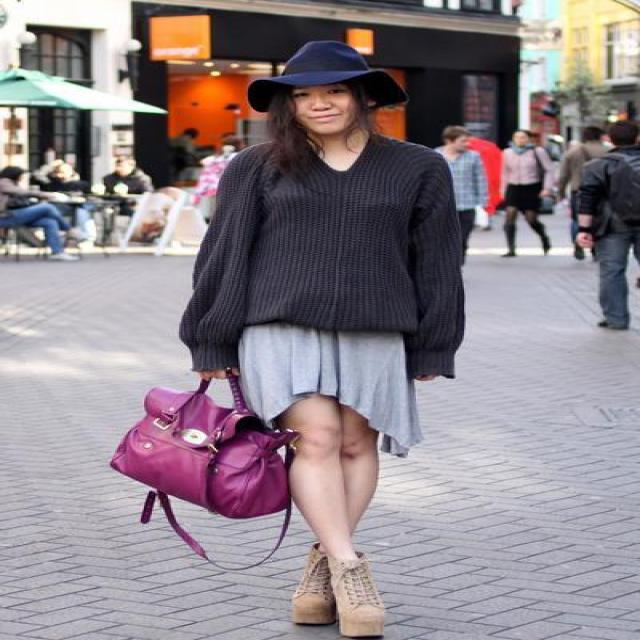bag: (110, 388, 300, 560)
hat: (248, 40, 392, 111)
jacket: (179, 140, 474, 386)
shoe: (272, 556, 384, 639)
skirt: (238, 326, 424, 456)
